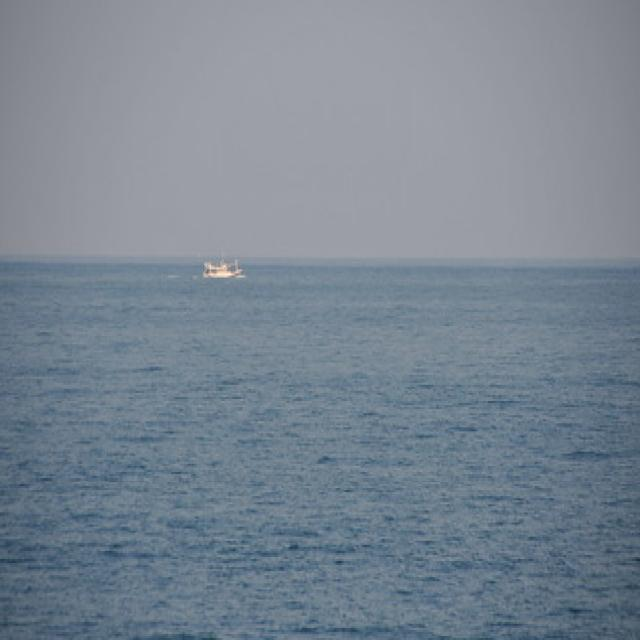fishing boat: (190, 248, 248, 297)
